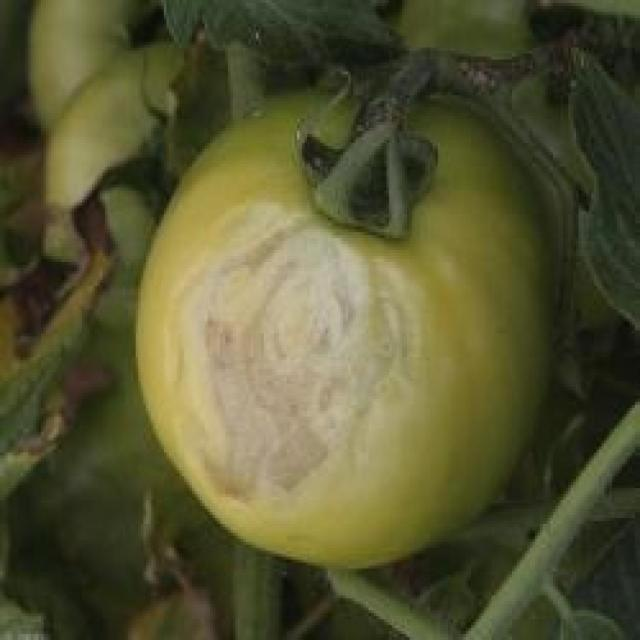Sunscald Fruit: (112, 144, 270, 340)
